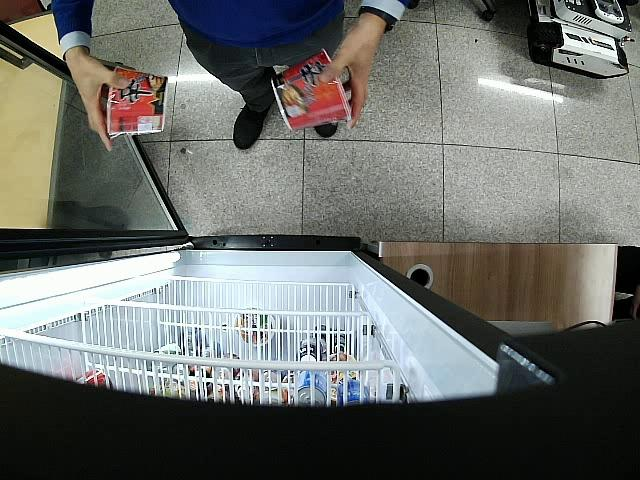00_hand: (321, 21, 386, 130), (66, 53, 131, 152)
01_shinRamen_L: (271, 48, 351, 132), (106, 66, 168, 141)
